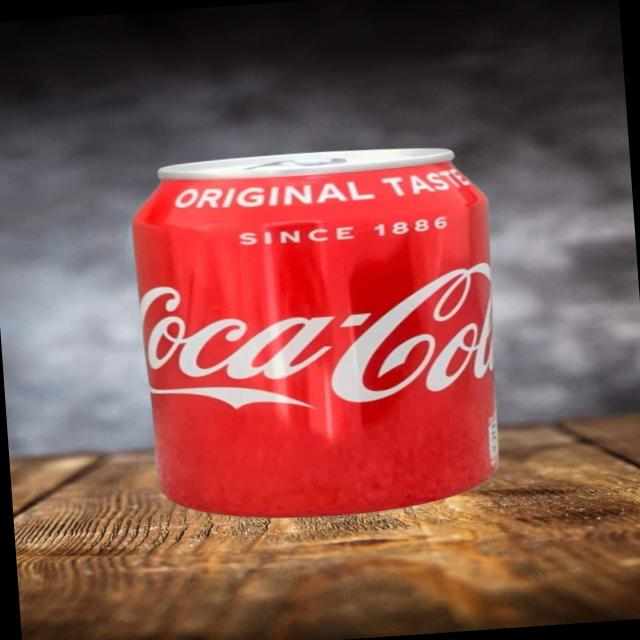cocacola: (120, 128, 516, 520)
